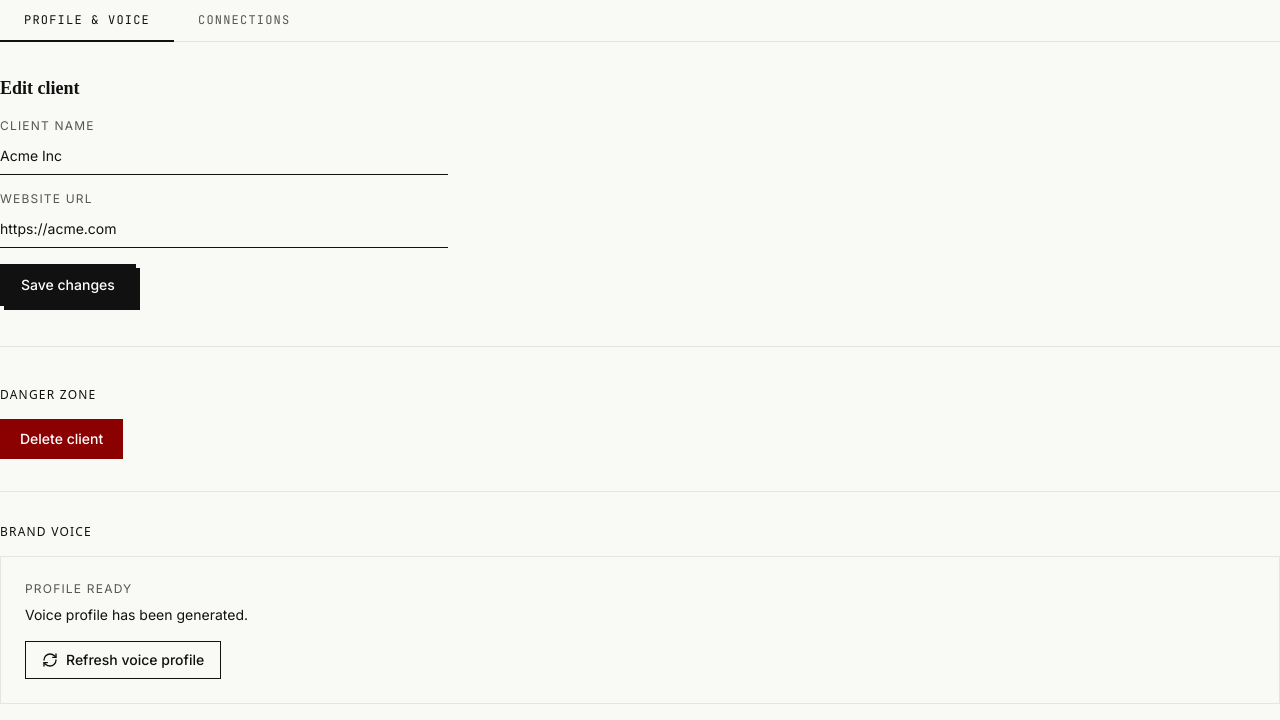
ClientDetail – Refresh voice profile button › opens the confirmation modal when the refresh button is clicked
The image size is (1280, 720).
Click the button "Refresh voice profile": (123, 660) [25, 641, 221, 679]
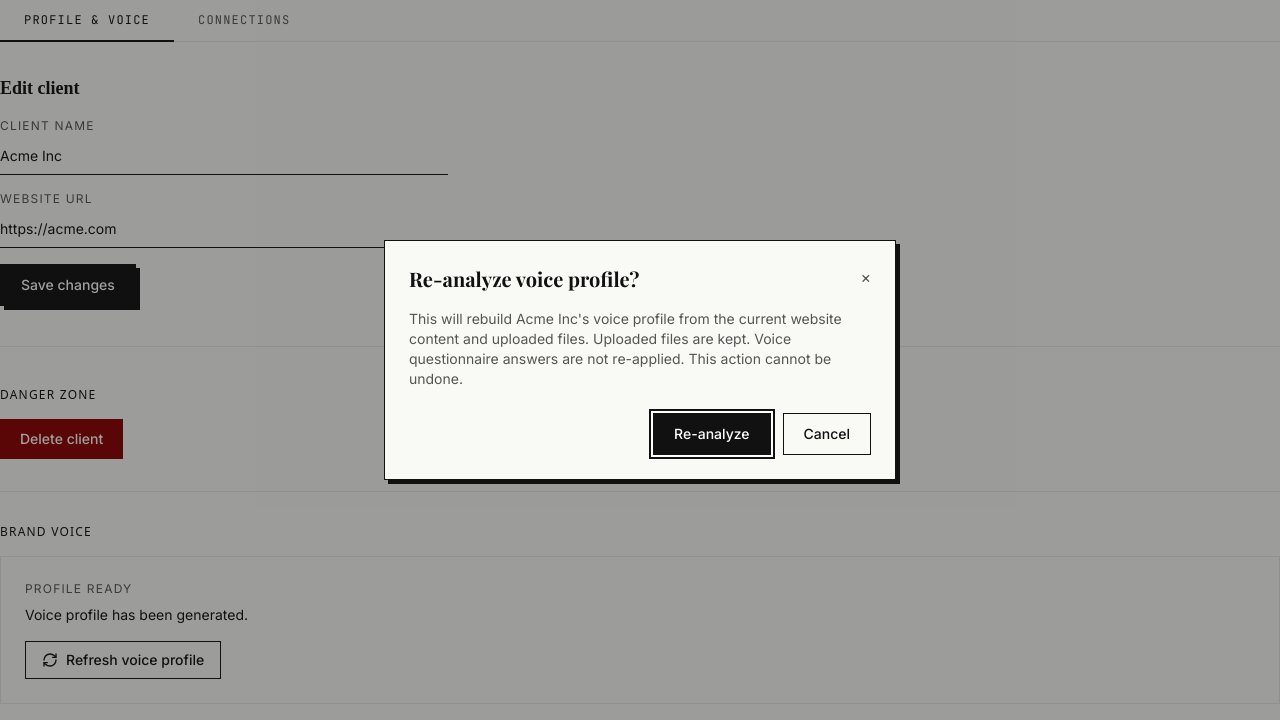
Expected: the dialog is shown
Expected: the heading "Re-analyze voice profile?" is shown, [409, 265, 639, 293]
